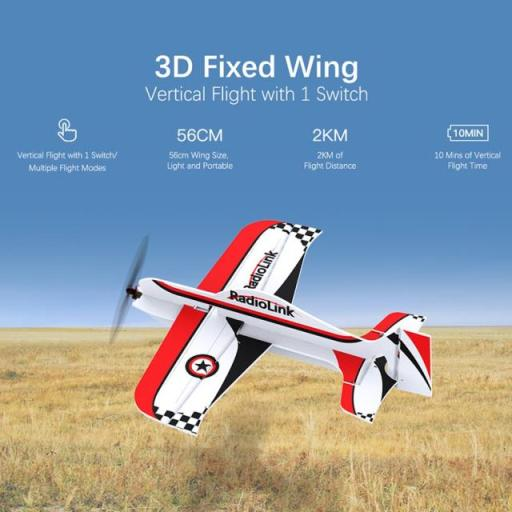uav: (102, 210, 440, 440)
